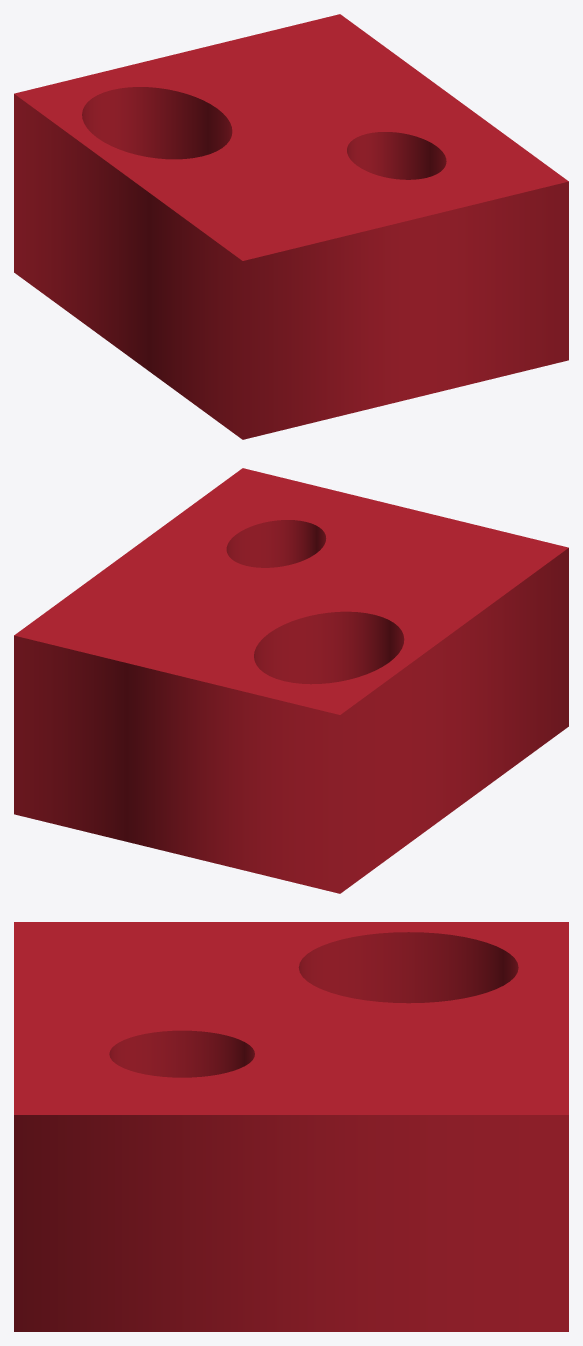
The picture shows the model from 3 angles, top to bottom: view 1: azimuth 30°, elevation 25°; view 2: azimuth 150°, elevation 25°; view 3: azimuth 270°, elevation 25°; orthographic projection. The views are drawn at different scales.
Parts seen in each view (by area): view 1: Curve; view 2: Curve; view 3: Curve.
Part boxes in pixels (x1=…): Curve: x1=14, y1=14, x2=568, y2=439; Curve: x1=14, y1=468, x2=568, y2=893; Curve: x1=14, y1=922, x2=568, y2=1331.
Size of the model in its own units: 0.7636 by 0.4 by 0.9276.
